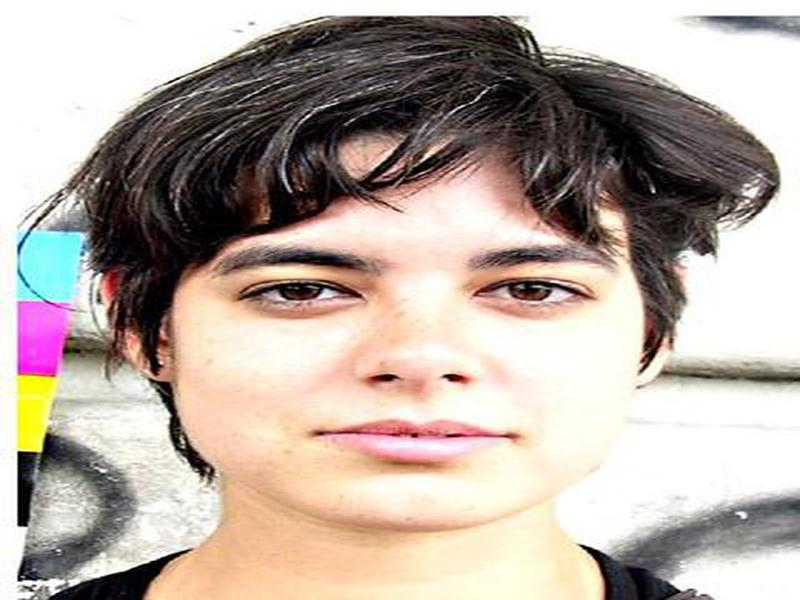without_mask: (170, 189, 643, 535)
